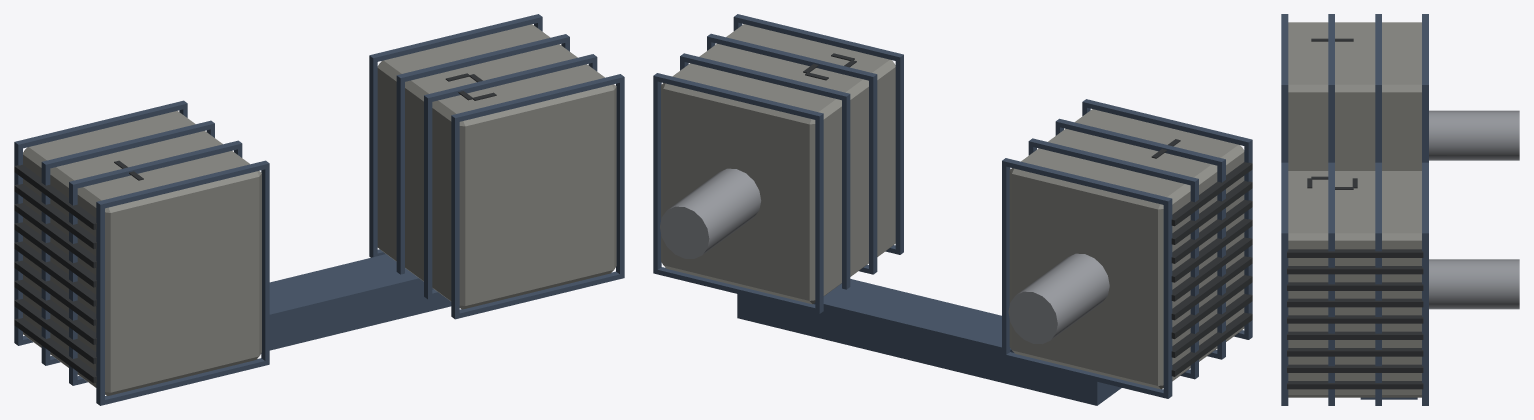
File: kc1000_cooler.obj
3 renders of one model, left to right at view 1: azimuth 30°, elevation 25°; view 2: azimuth 150°, elevation 25°; view 3: azimuth 270°, elevation 25°, orthographic. The views are drawn at different scales.
Parts seen in each view (by area): view 1: kc1000_cooler; view 2: kc1000_cooler; view 3: kc1000_cooler.
Part boxes in pixels (box(x1,y1,x2,y2)): kc1000_cooler: box(14, 14, 624, 405); kc1000_cooler: box(653, 14, 1252, 405); kc1000_cooler: box(1281, 14, 1519, 405).
Size of the model in its own units: 4.64 by 1.94 by 2.1.
